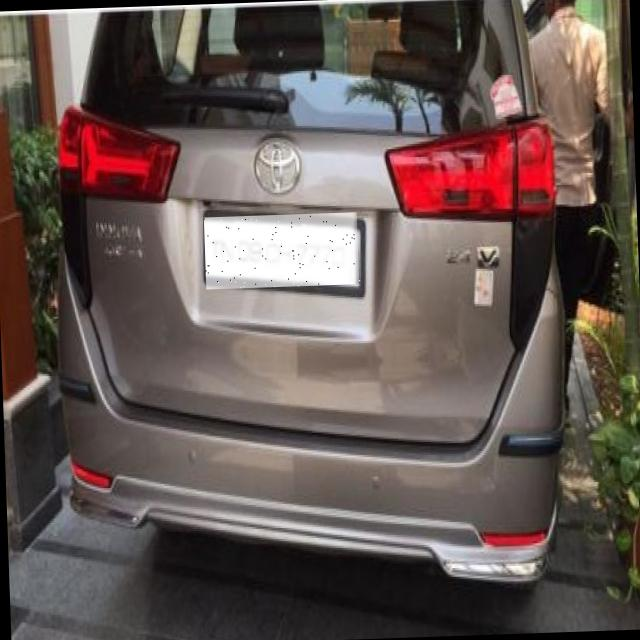Plate: (205, 213, 361, 290)
